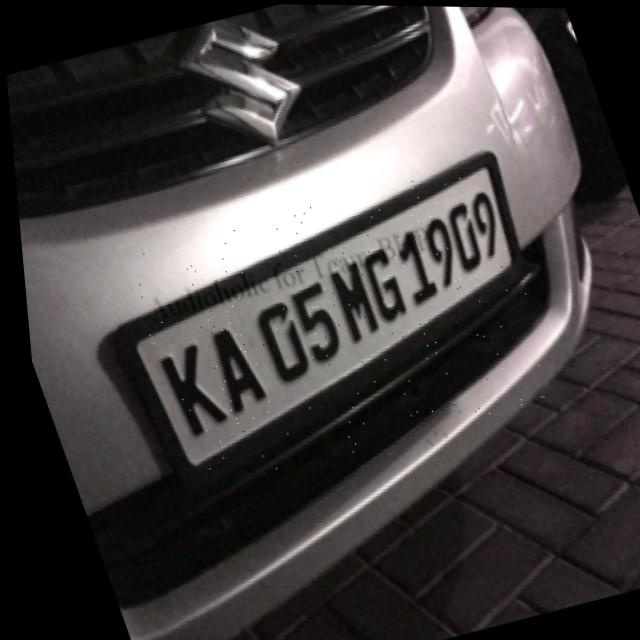license_plate: (107, 157, 564, 495)
